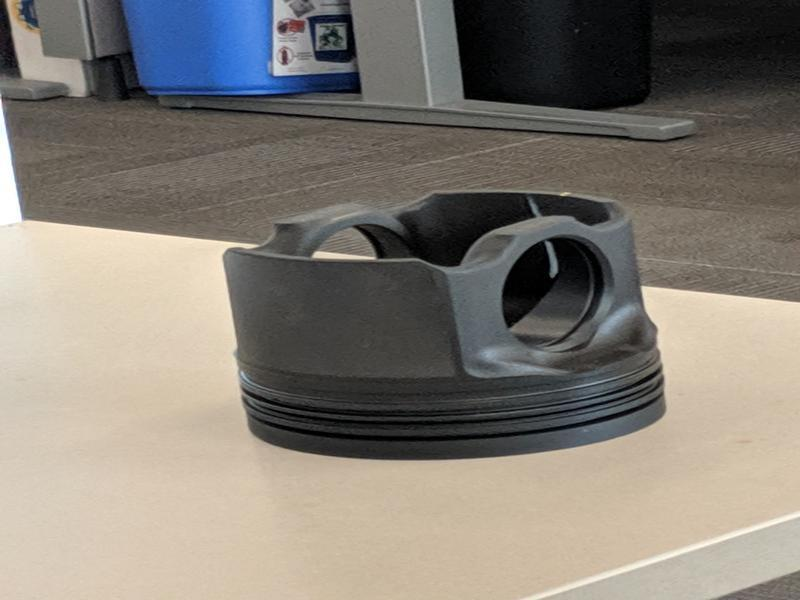piston: (202, 186, 672, 465)
